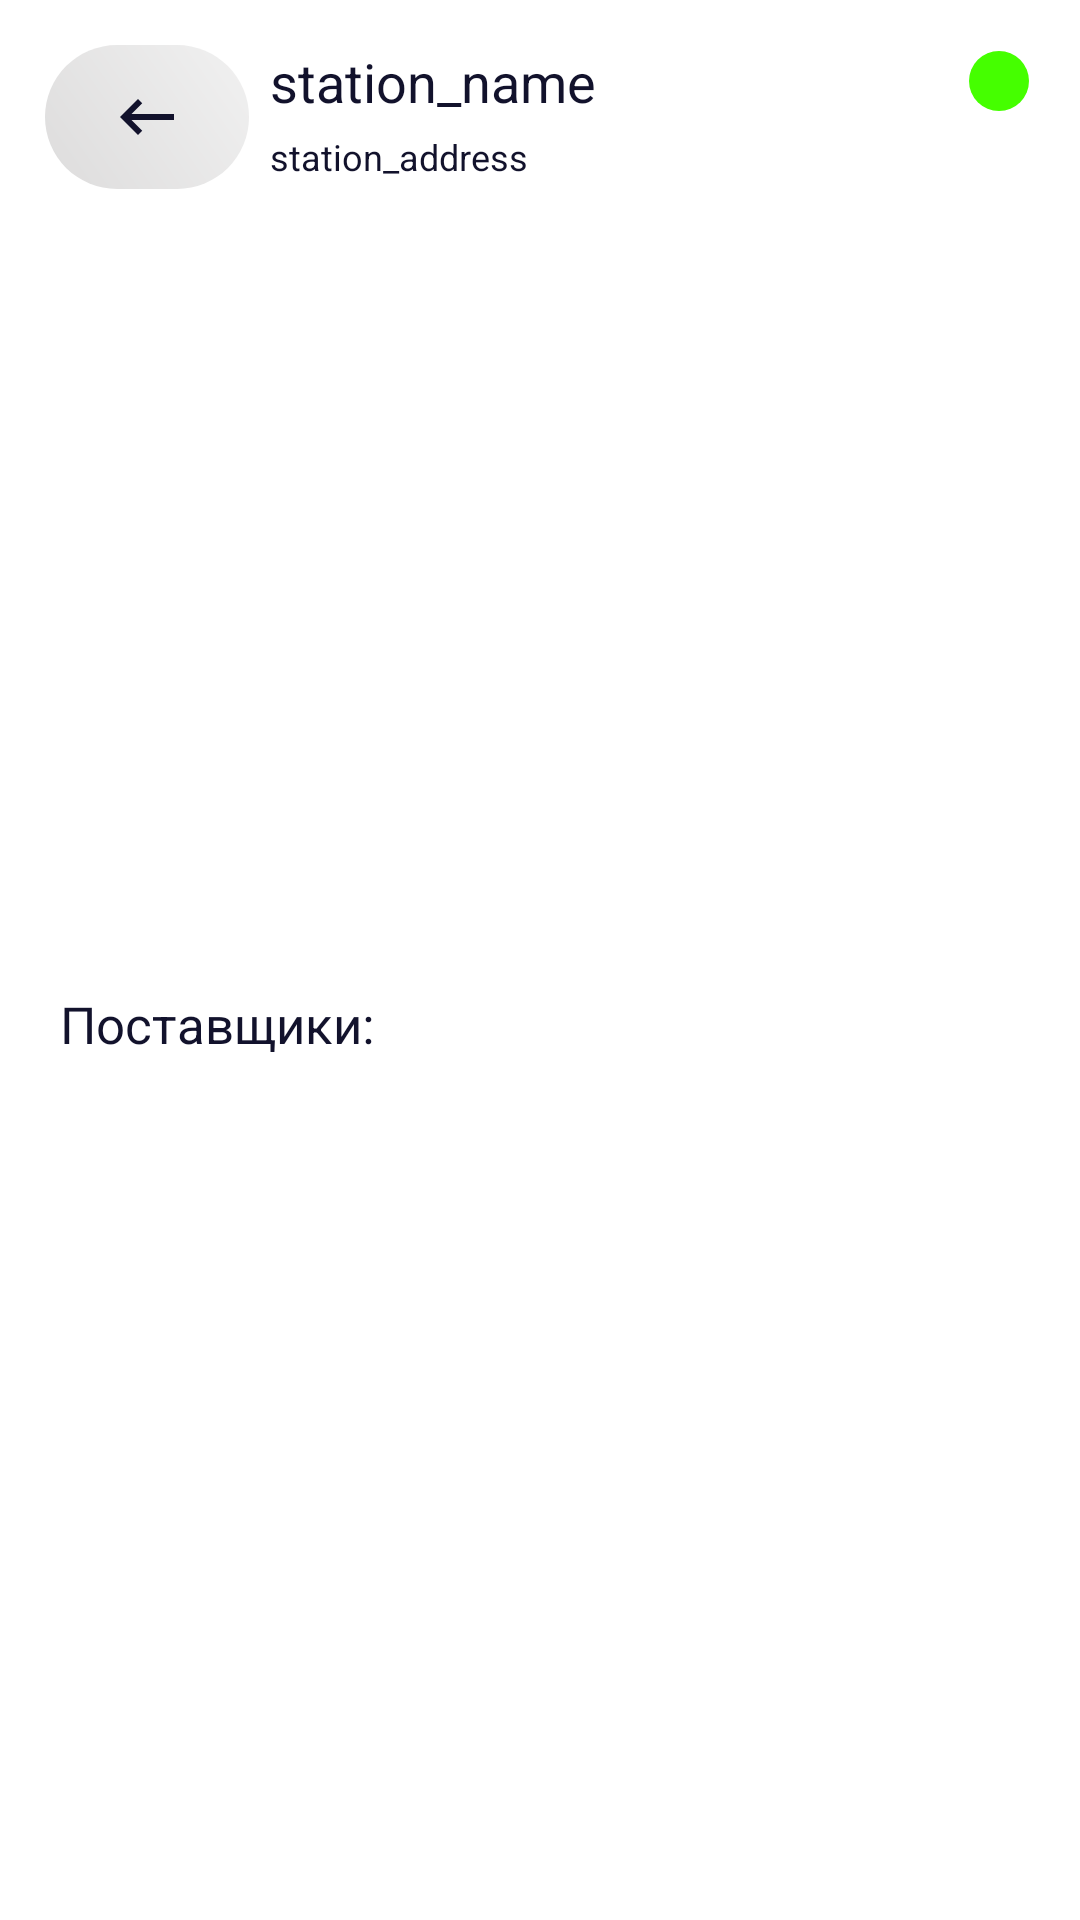

Icons on this 1080*1920 Android screen, each with its box as (x1, y1, x2, y2):
Назад: (45, 48, 195, 189)
